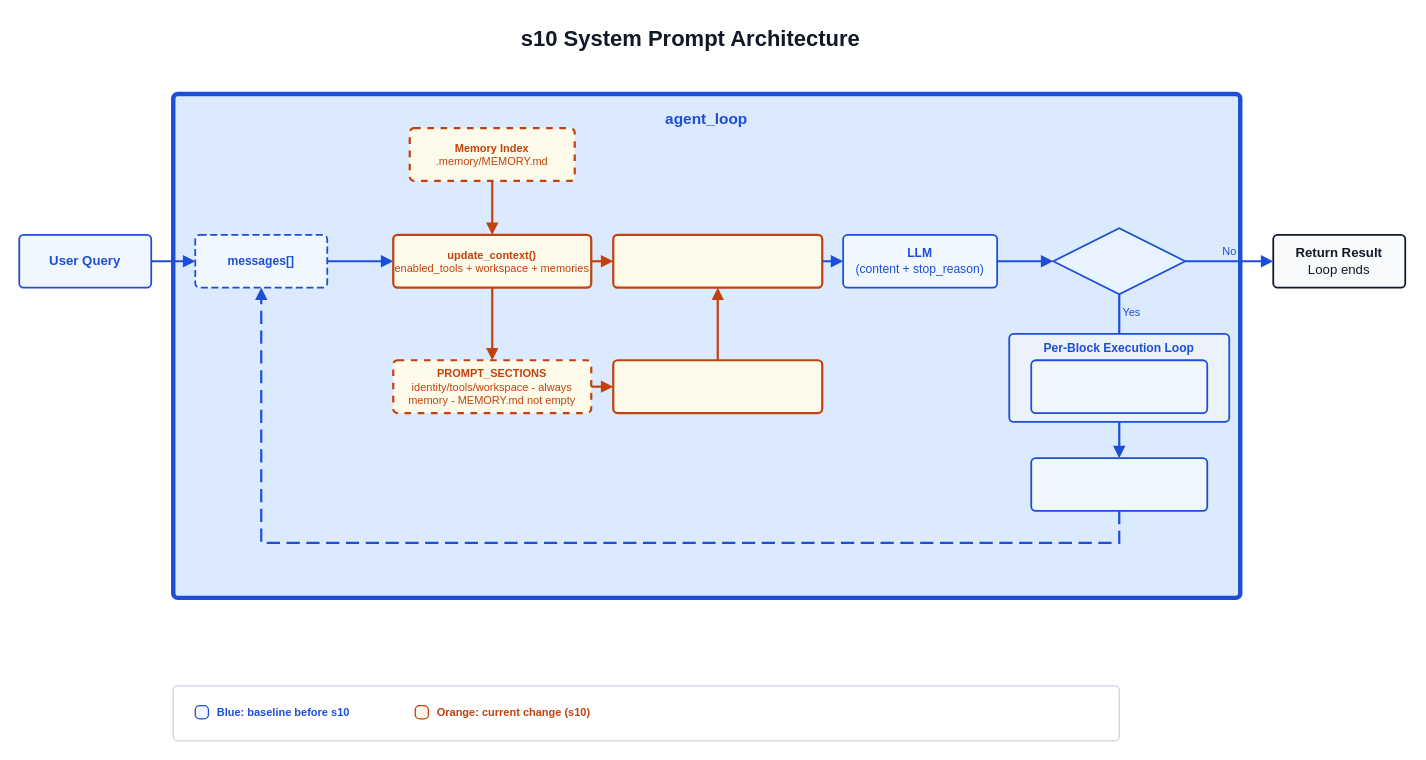
Image size: 1426x760. Some labels were removed from this diagram. Each missing label, with the centre of its shape:
assemble_system_prompt(context) always + conditional memory: (717,386)
get_system_prompt(context) json.dumps key + cache hit/miss: (717,260)
stop_reason == "tool_use"?: (1119,261)
TOOL_HANDLERS bash / read_file / write_file: (1119,386)
tool_result append to messages[]: (1119,484)
